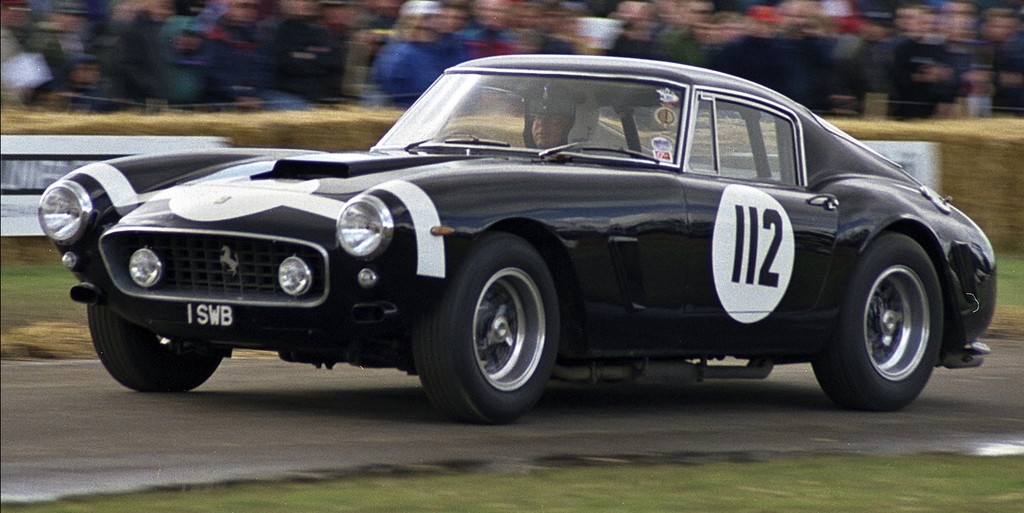person: (0, 0, 41, 53)
